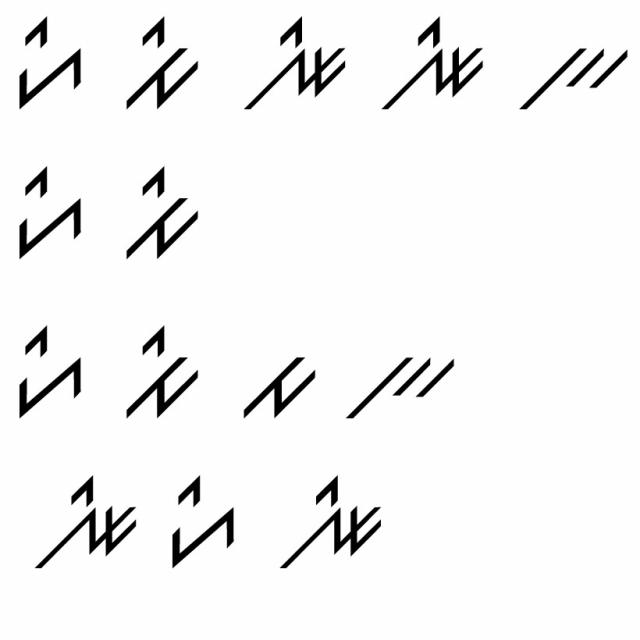hi: (162, 468, 245, 575), (7, 323, 91, 424), (8, 160, 88, 260), (13, 11, 86, 111)
mba: (232, 344, 319, 424)
mbi: (110, 11, 202, 114), (114, 323, 201, 429), (122, 164, 202, 262)
ndi: (271, 461, 390, 583), (237, 8, 354, 119), (25, 470, 141, 576), (378, 8, 488, 115)
